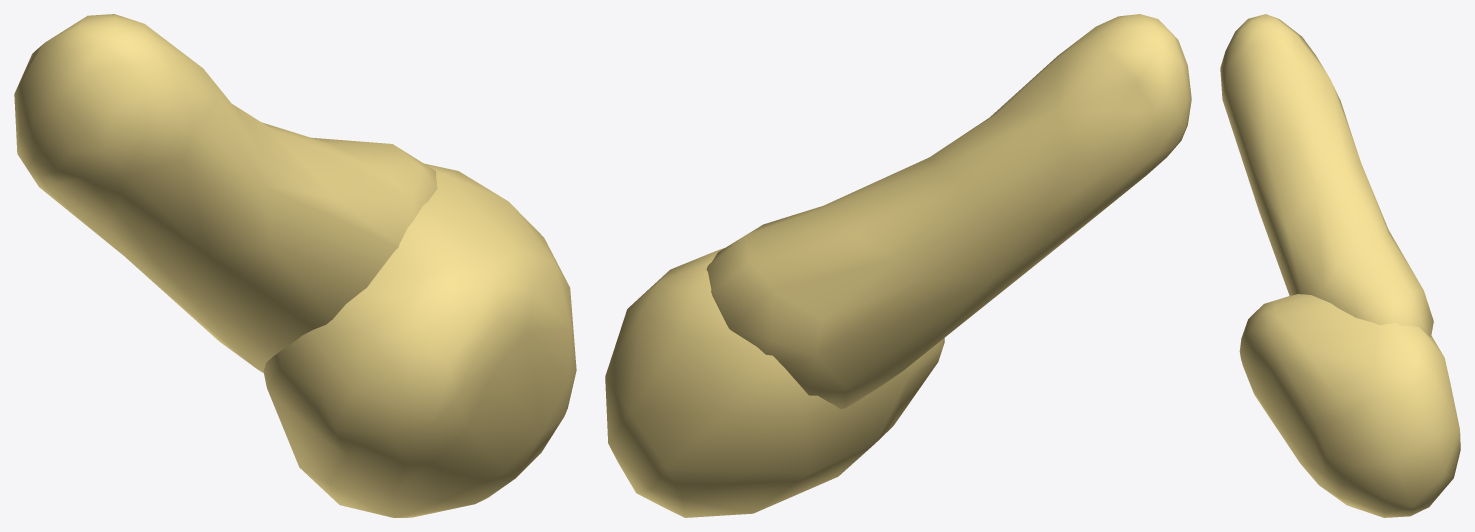
3 renders of one model, left to right at view 1: azimuth 30°, elevation 25°; view 2: azimuth 150°, elevation 25°; view 3: azimuth 270°, elevation 25°, orthographic. The views are drawn at different scales.
Visible parts, largest first — view 1: ZA_6f08975c43d16027; view 2: ZA_6f08975c43d16027; view 3: ZA_6f08975c43d16027.
Boxes of the visible parts, bbox=[...] form: ZA_6f08975c43d16027: bbox=[14, 14, 576, 517]; ZA_6f08975c43d16027: bbox=[605, 14, 1191, 517]; ZA_6f08975c43d16027: bbox=[1220, 14, 1460, 517].
Size of the model in its own units: 0.0141 by 0.0141 by 0.00825.
